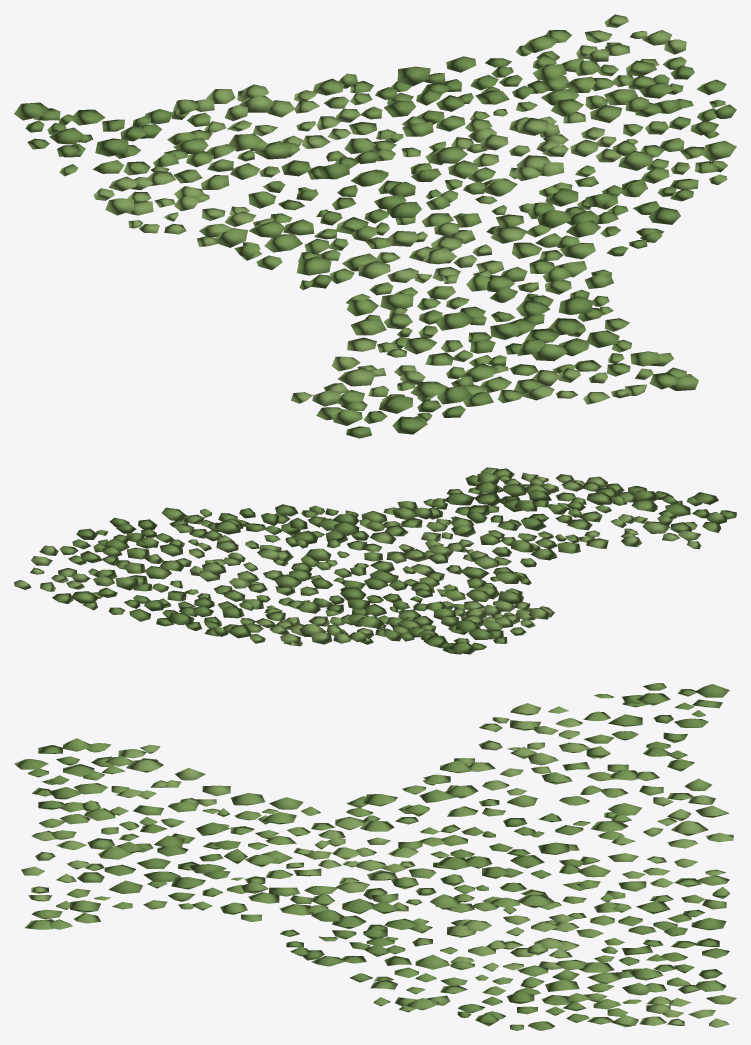
File: canopy-1-3-4.glb
The picture shows the model from 3 angles, top to bottom: view 1: azimuth 30°, elevation 25°; view 2: azimuth 150°, elevation 25°; view 3: azimuth 270°, elevation 25°; orthographic projection. The views are drawn at different scales.
Size of the model in its own units: 510 by 80 by 518.
Materials: 1 (1 with a texture image).
